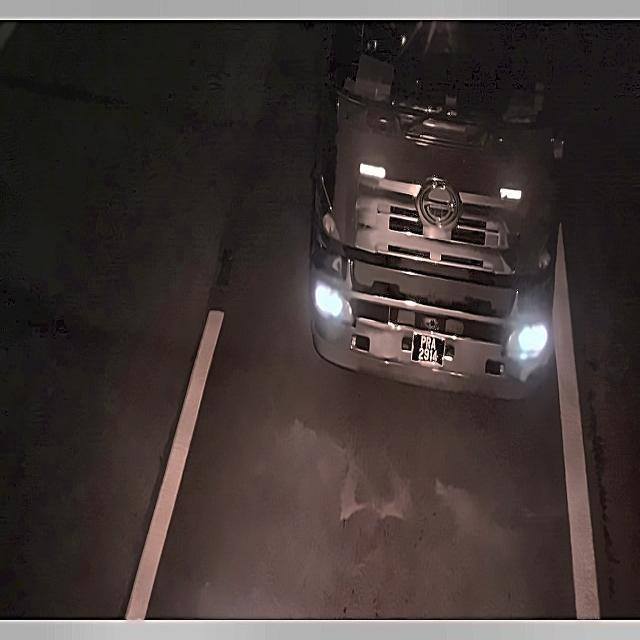car: (404, 322, 460, 379)
